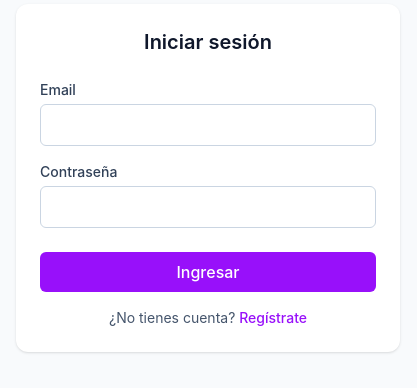
Test: LoginPage › muestra un mensaje de error cuando el login falla
The image size is (417, 388).
In the field labelled "Email": x=208, y=125 40,104 -> 376,146, type "test@pedbox.com"
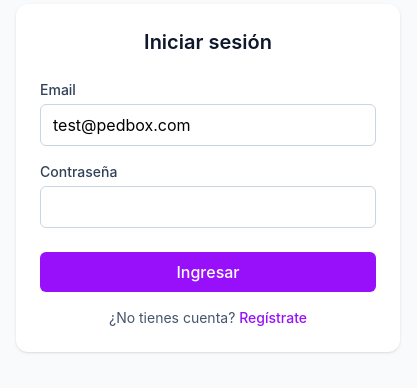
In the password field labelled "Contraseña": x=208, y=207 40,186 -> 376,228, type "wrongpassword"
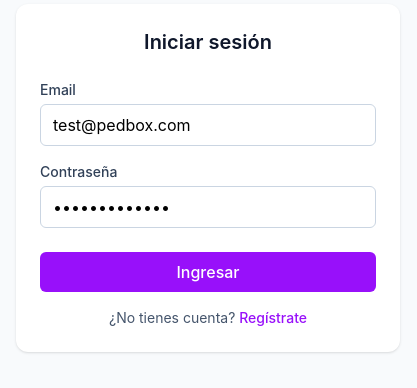
Click the button "Ingresar": x=208, y=272 40,252 -> 376,292
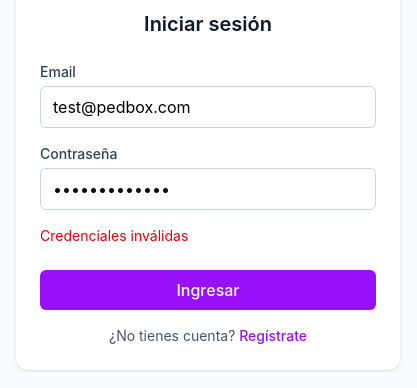
Check: the text "Credenciales inválidas" is shown, box 40,227 -> 188,244
